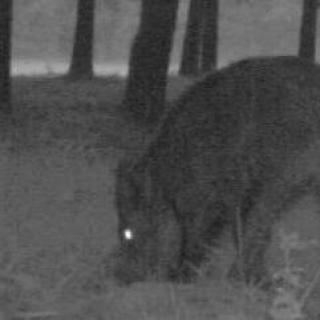Pig: (109, 36, 320, 291)
